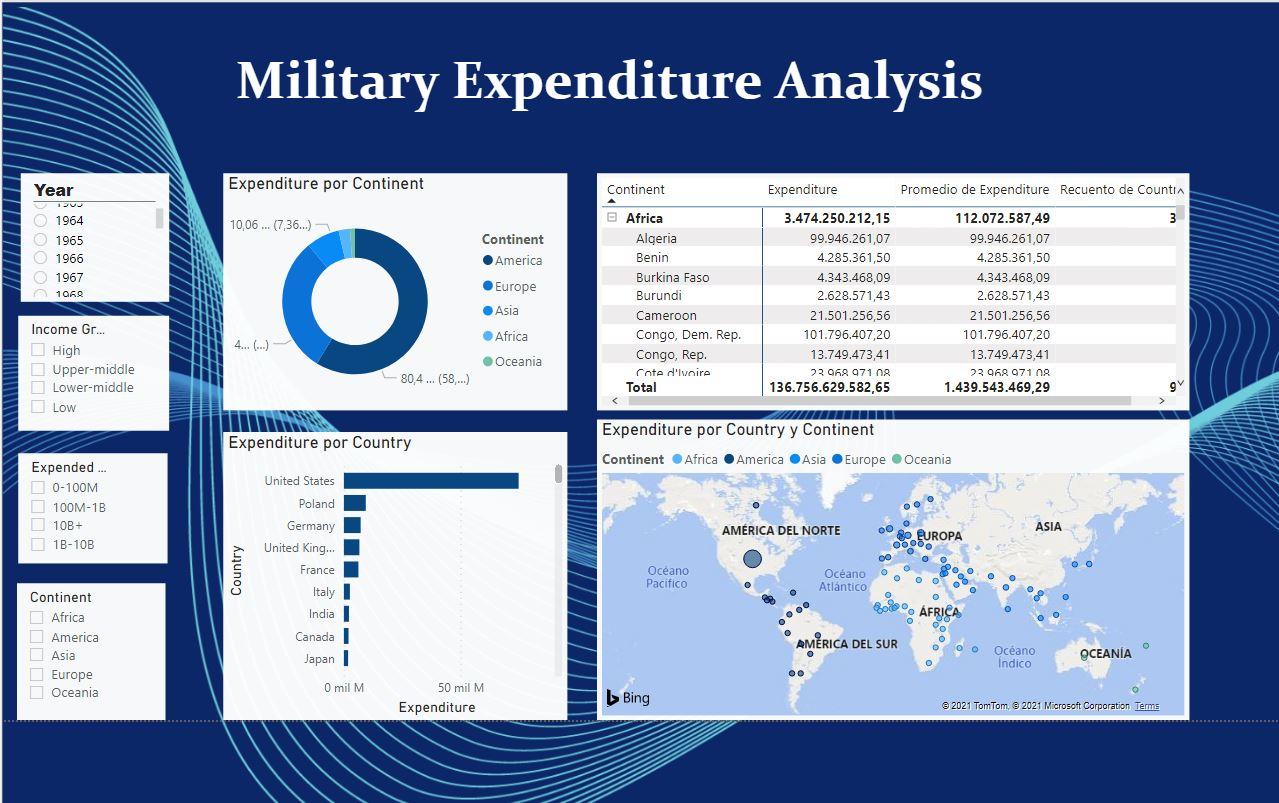

The dashboard page shown, as its layout file describes it:
{"tool":"powerbi","page":{"name":"Analisis","canvas":[1280,720],"ordinal":0},"visuals":[{"type":"donutChart","fields":{"Y":["Sum(Military Expenditure.Expenditure)"],"Category":["Military Expenditure.Continent"]},"box":[221.4,171.9,345,237.4],"z":0},{"type":"slicer","title":"year","fields":{"Values":["Military Expenditure.Year"]},"box":[18.6,171.9,148.4,128.6],"z":1000},{"type":"map","fields":{"Category":["Military Expenditure.Country"],"Size":["Sum(Military Expenditure.Expenditure)"],"Series":["Military Expenditure.Continent"]},"box":[596.1,418,593.6,301.8],"z":2000},{"type":"pivotTable","fields":{"Rows":["Military Expenditure.Continent","Military Expenditure.Country"],"Values":["Sum(Military Expenditure.Expenditure)","Avg(Military Expenditure.Expenditure)","Count(Military Expenditure.Country)"]},"box":[596.1,171.9,593.6,237.4],"z":3000},{"type":"slicer","fields":{"Values":["Military Expenditure.Continent"]},"box":[14.8,582.5,148.4,137.3],"z":3001},{"type":"clusteredBarChart","fields":{"Category":["Military Expenditure.Country"],"Y":["Sum(Military Expenditure.Expenditure)"]},"box":[221.4,430.4,345,289.4],"z":3002},{"type":"slicer","fields":{"Values":["Military Expenditure.Expended Group"]},"box":[16.1,452.6,149.6,110.1],"z":3003},{"type":"slicer","fields":{"Values":["IG Order.Income Group"]},"box":[16.1,314.1,150.9,115],"z":3004},{"type":"textbox","box":[27.2,40.8,1162.5,85.3],"z":3005}]}

Visuals, with their boxes in screenshot pixels (x1, y1, x2, y2):
donutChart - Sum(Military Expenditure.Expenditure) x Military Expenditure.Continent: (221, 173, 561, 407)
"year" slicer: (22, 173, 168, 299)
map - Military Expenditure.Country x Sum(Military Expenditure.Expenditure): (591, 415, 1176, 713)
pivotTable - Military Expenditure.Continent x Military Expenditure.Country: (591, 173, 1176, 407)
slicer - Military Expenditure.Continent: (18, 577, 164, 713)
clusteredBarChart - Military Expenditure.Country x Sum(Military Expenditure.Expenditure): (221, 427, 561, 713)
slicer - Military Expenditure.Expended Group: (19, 449, 167, 558)
slicer - IG Order.Income Group: (19, 313, 168, 426)
textbox: (30, 44, 1176, 128)
